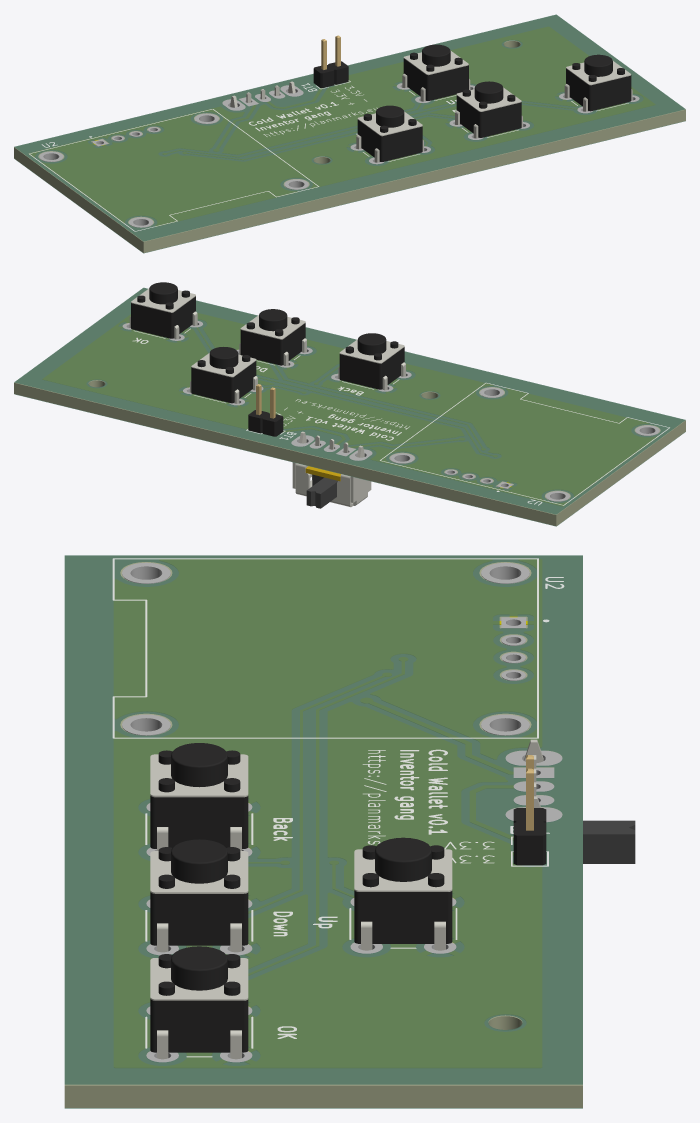
File: coldwallet01.glb
3 renders of one model, top to bottom at view 1: azimuth 30°, elevation 25°; view 2: azimuth 150°, elevation 25°; view 3: azimuth 270°, elevation 25°, orthographic. The views are drawn at different scales.
Visible parts, largest first — view 1: =>[0:1:1:13], =>[0:1:1:8], =>[0:1:1:15], =>[0:1:1:3] (×4), =>[0:1:1:9], =>[0:1:1:11], =>[0:1:1:5], =>[0:1:1:14]; view 2: =>[0:1:1:13], =>[0:1:1:8], =>[0:1:1:15], =>[0:1:1:3] (×4), =>[0:1:1:7], =>[0:1:1:9], =>[0:1:1:11], =>[0:1:1:5], =>[0:1:1:14]; view 3: =>[0:1:1:13], =>[0:1:1:8], =>[0:1:1:15], =>[0:1:1:3] (×4), =>[0:1:1:9], =>[0:1:1:11], =>[0:1:1:7], =>[0:1:1:5].
Boxes of the visible parts, bbox=[...] form: =>[0:1:1:13]: bbox=[14, 14, 685, 241]; =>[0:1:1:8]: bbox=[31, 27, 654, 225]; =>[0:1:1:15]: bbox=[14, 15, 685, 252]; =>[0:1:1:3] (×4): bbox=[356, 44, 632, 162]; =>[0:1:1:9]: bbox=[39, 83, 639, 227]; =>[0:1:1:11]: bbox=[29, 80, 628, 231]; =>[0:1:1:5]: bbox=[313, 35, 348, 87]; =>[0:1:1:14]: bbox=[14, 121, 685, 253]; =>[0:1:1:13]: bbox=[14, 287, 685, 514]; =>[0:1:1:8]: bbox=[43, 313, 655, 505]; =>[0:1:1:15]: bbox=[14, 288, 685, 526]; =>[0:1:1:3] (×4): bbox=[129, 282, 405, 403]; =>[0:1:1:7]: bbox=[292, 431, 371, 508]; =>[0:1:1:9]: bbox=[122, 321, 659, 501]; =>[0:1:1:11]: bbox=[132, 328, 669, 505]; =>[0:1:1:5]: bbox=[248, 384, 283, 436]; =>[0:1:1:14]: bbox=[14, 394, 685, 526]; =>[0:1:1:13]: bbox=[64, 555, 582, 1084]; =>[0:1:1:8]: bbox=[114, 559, 541, 1067]; =>[0:1:1:15]: bbox=[64, 556, 582, 1107]; =>[0:1:1:3] (×4): bbox=[150, 743, 452, 1059]; =>[0:1:1:9]: bbox=[122, 562, 562, 1062]; =>[0:1:1:11]: bbox=[112, 558, 564, 1057]; =>[0:1:1:7]: bbox=[524, 739, 635, 863]; =>[0:1:1:5]: bbox=[513, 755, 546, 865].
Size of the model in its own units: 0.0767 by 0.0124 by 0.035.
